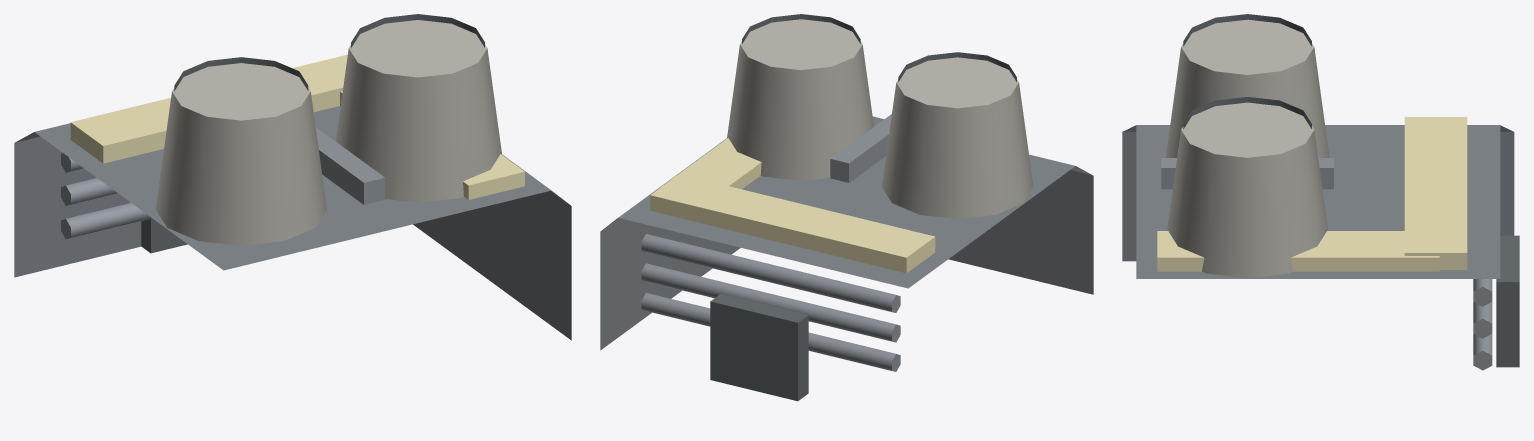
Rendered from power_plant.glb.
3 views of the same model, side by side, from view 1: azimuth 30°, elevation 25°; view 2: azimuth 150°, elevation 25°; view 3: azimuth 270°, elevation 25° (orthographic). The views are drawn at different scales.
Parts seen in each view (by area): view 1: Body; view 2: Body; view 3: Body.
Boxes of the visible parts, x1,y1,x2,y2 form: Body: [14, 14, 571, 340]; Body: [600, 14, 1093, 401]; Body: [1122, 14, 1519, 370].
Size of the model in its own units: 5 by 3.68 by 5.07.
